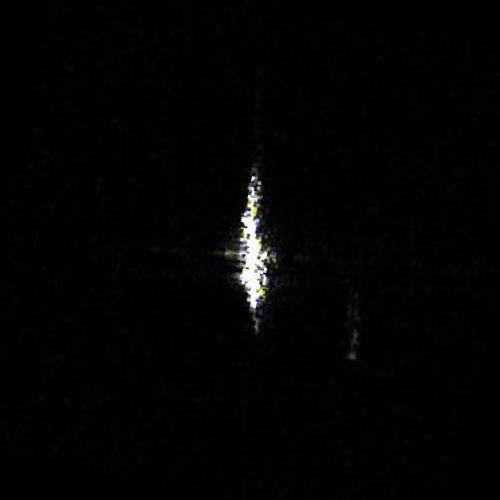ship: (238, 163, 273, 315)
